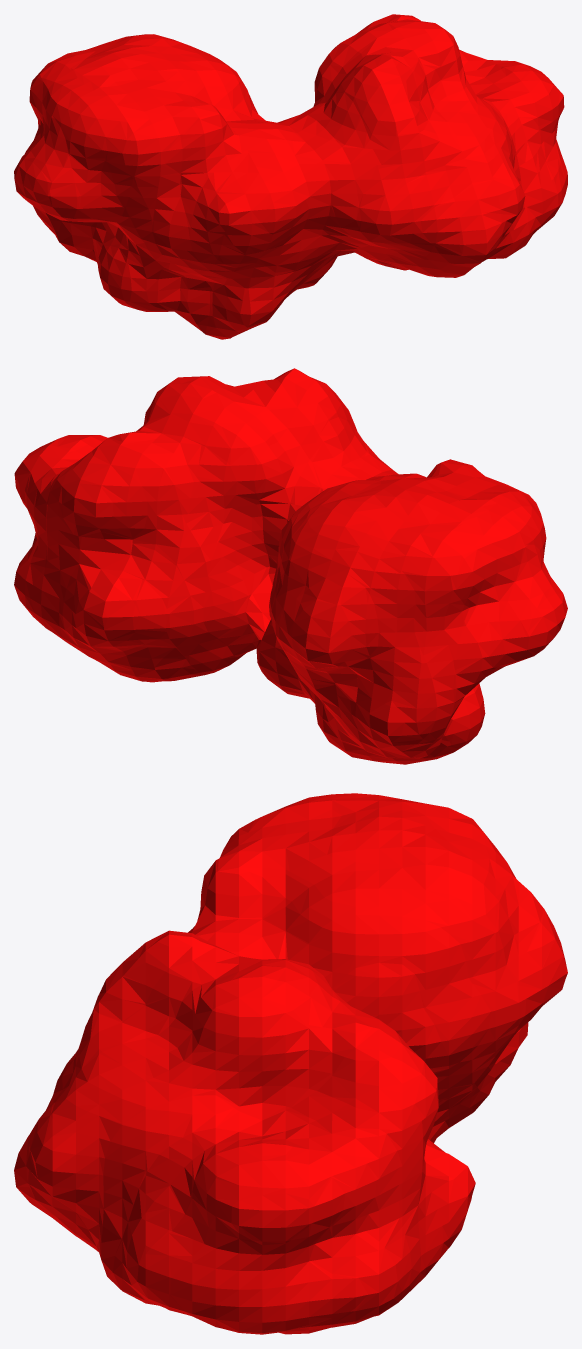
File: narL_coarse.dae
3 renders of one model, top to bottom at view 1: azimuth 30°, elevation 25°; view 2: azimuth 150°, elevation 25°; view 3: azimuth 270°, elevation 25°, orthographic. The views are drawn at different scales.
Visible parts, largest first — view 1: narL; view 2: narL; view 3: narL.
Boxes of the visible parts, x1,y1,x2,y2 form: narL: (14,14,567,339); narL: (14,368,567,764); narL: (14,793,567,1334).
Size of the model in its own units: 89.64 by 46.6 by 62.52.
